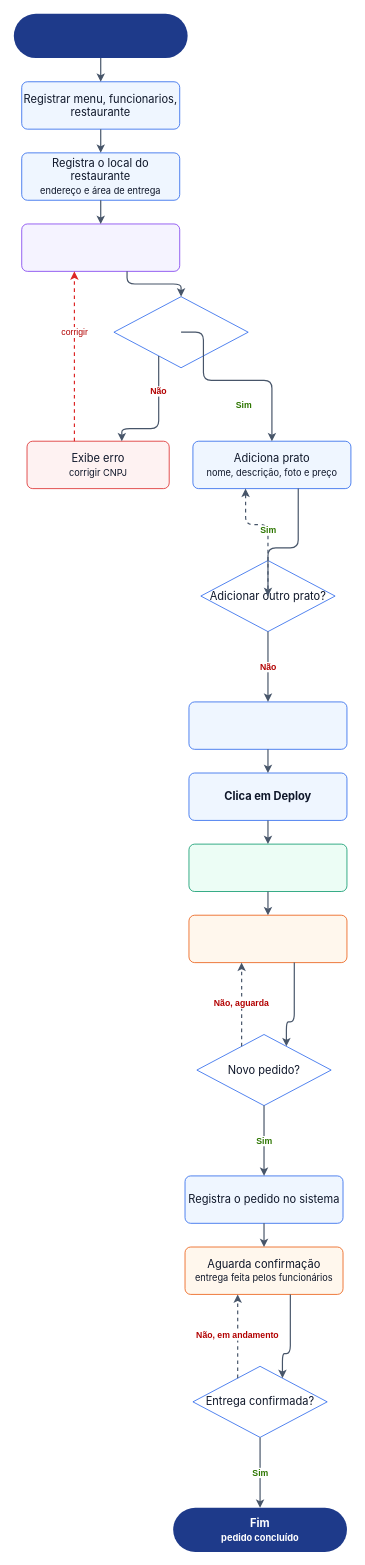
This 365x1565 diagram has some shape labels left out. The shapes that lost their labels are listed below. From the top down, each one's centre as x and y in pixels, then its label:
the point at 100,35: Início Gerente acessa o painel Pratello
the point at 100,247: Registra CNPJ do gerente
the point at 180,332: CNPJ válido?
the point at 267,725: Escolhe o layout da página do restaurante
the point at 267,867: Página publicada restaurante visível no Menomio
the point at 267,938: Sistema monitora pedidos
